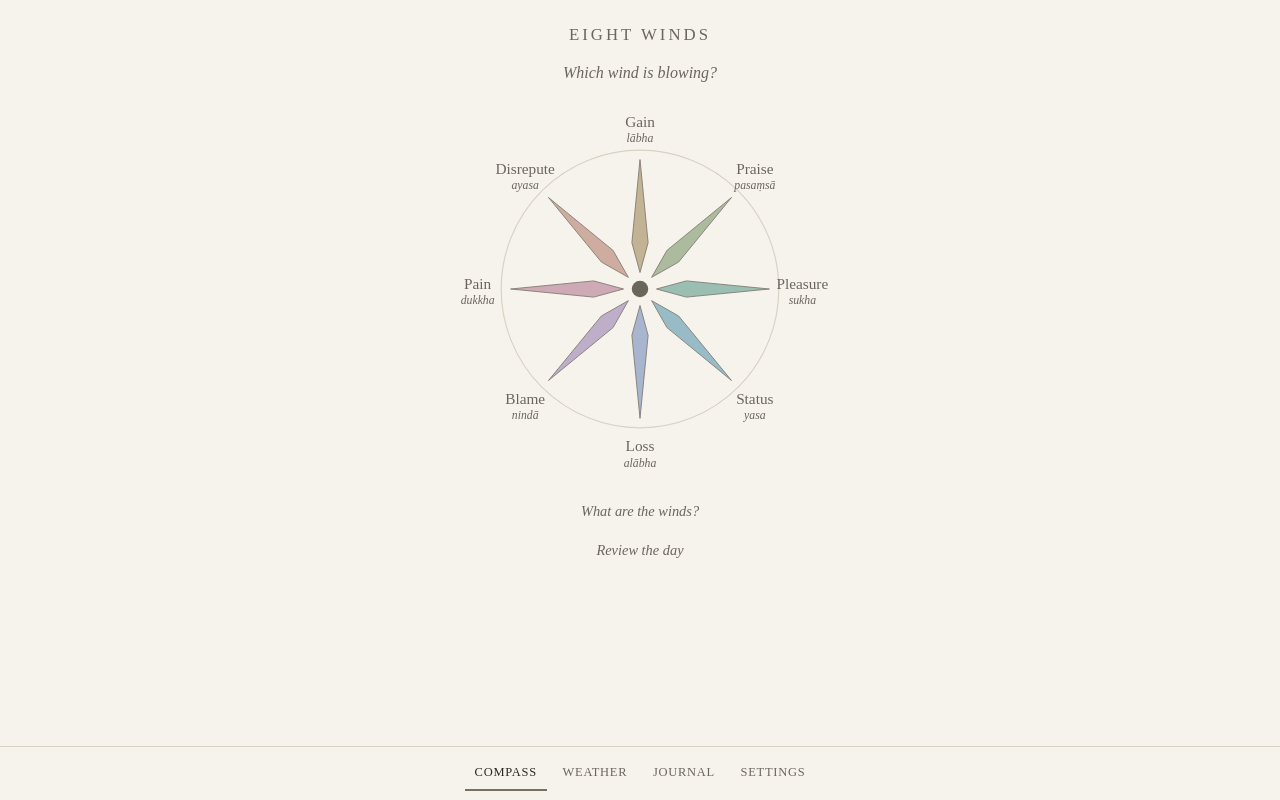
Test: evening review › keeps the plain-language guide available inside the review
Click the button "Review the day" at (640, 550), box [588,534,692,566]
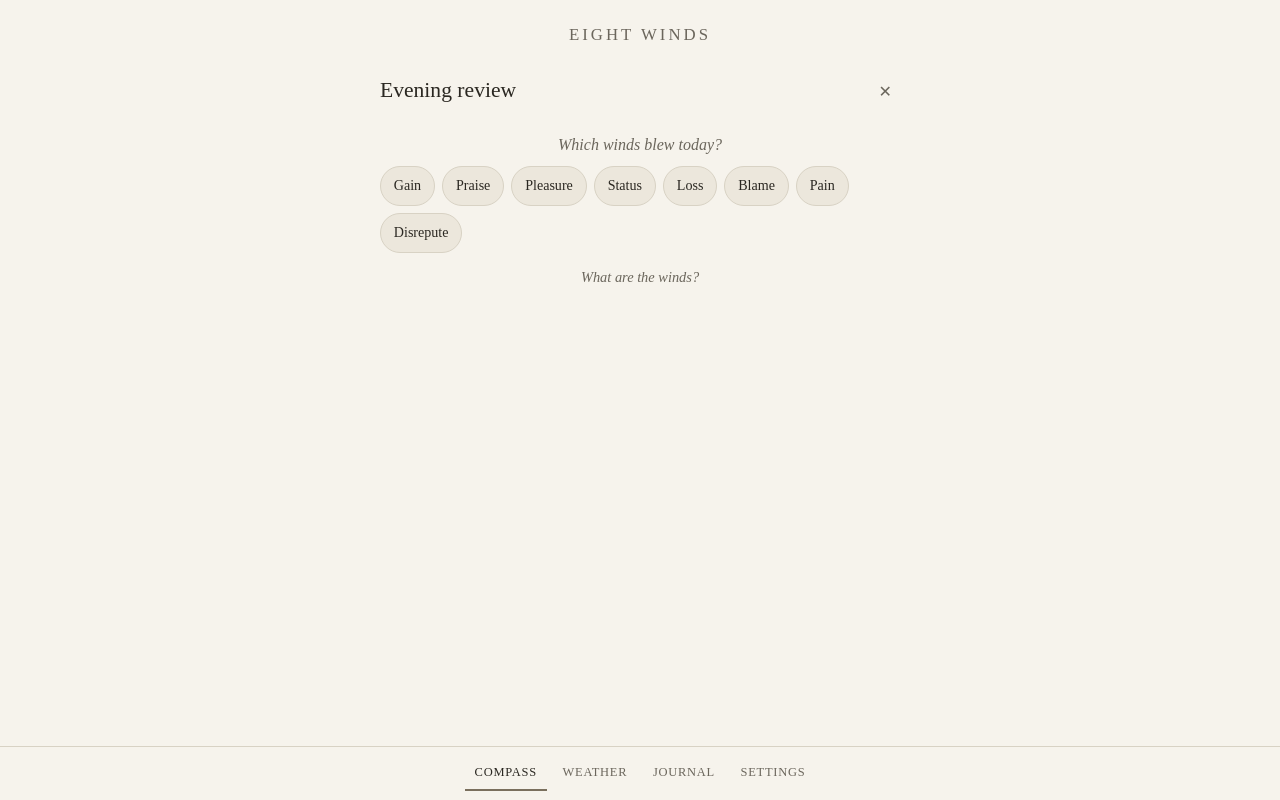
Click the button "What are the winds?" at (640, 277), box [573,261,707,293]
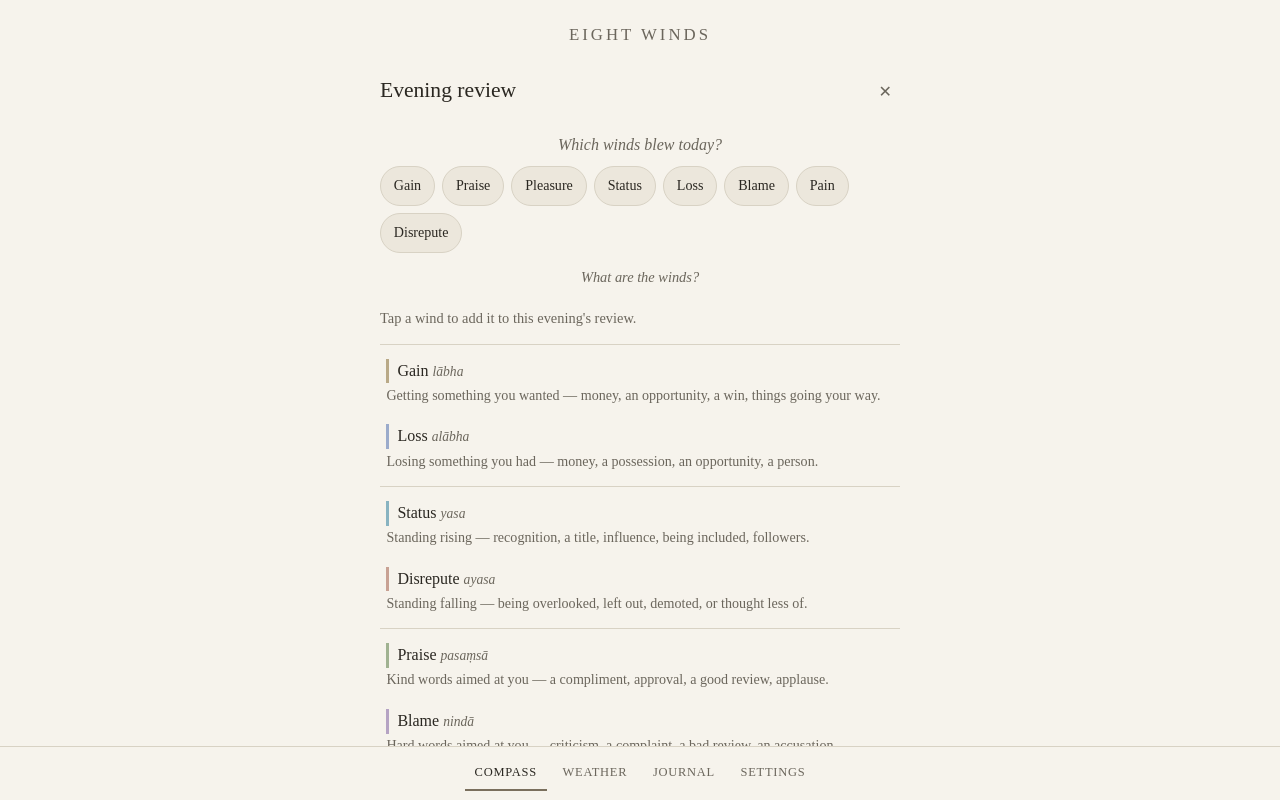
Click the button "Kind words aimed at you" at (640, 667), box [380,637,900,697]
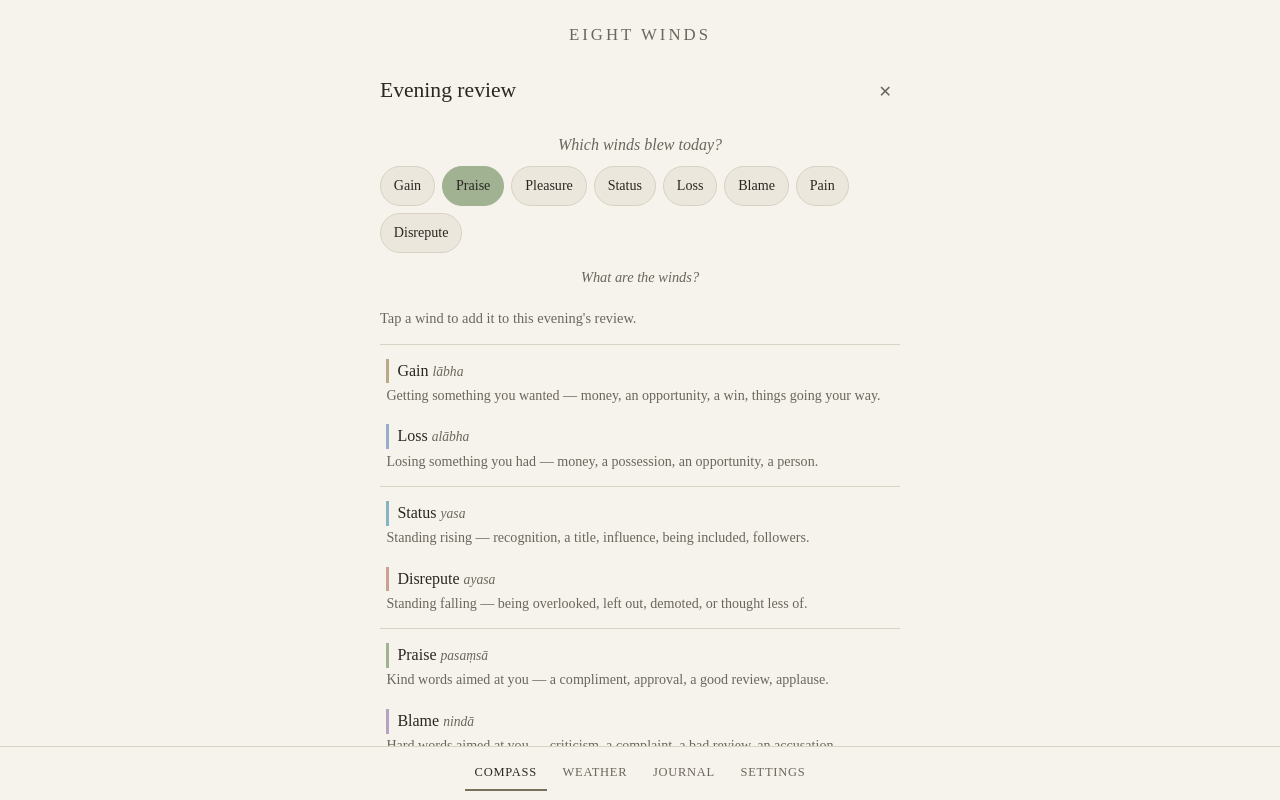
Check: the button "Praise" is pressed, box [442,166,504,206]
